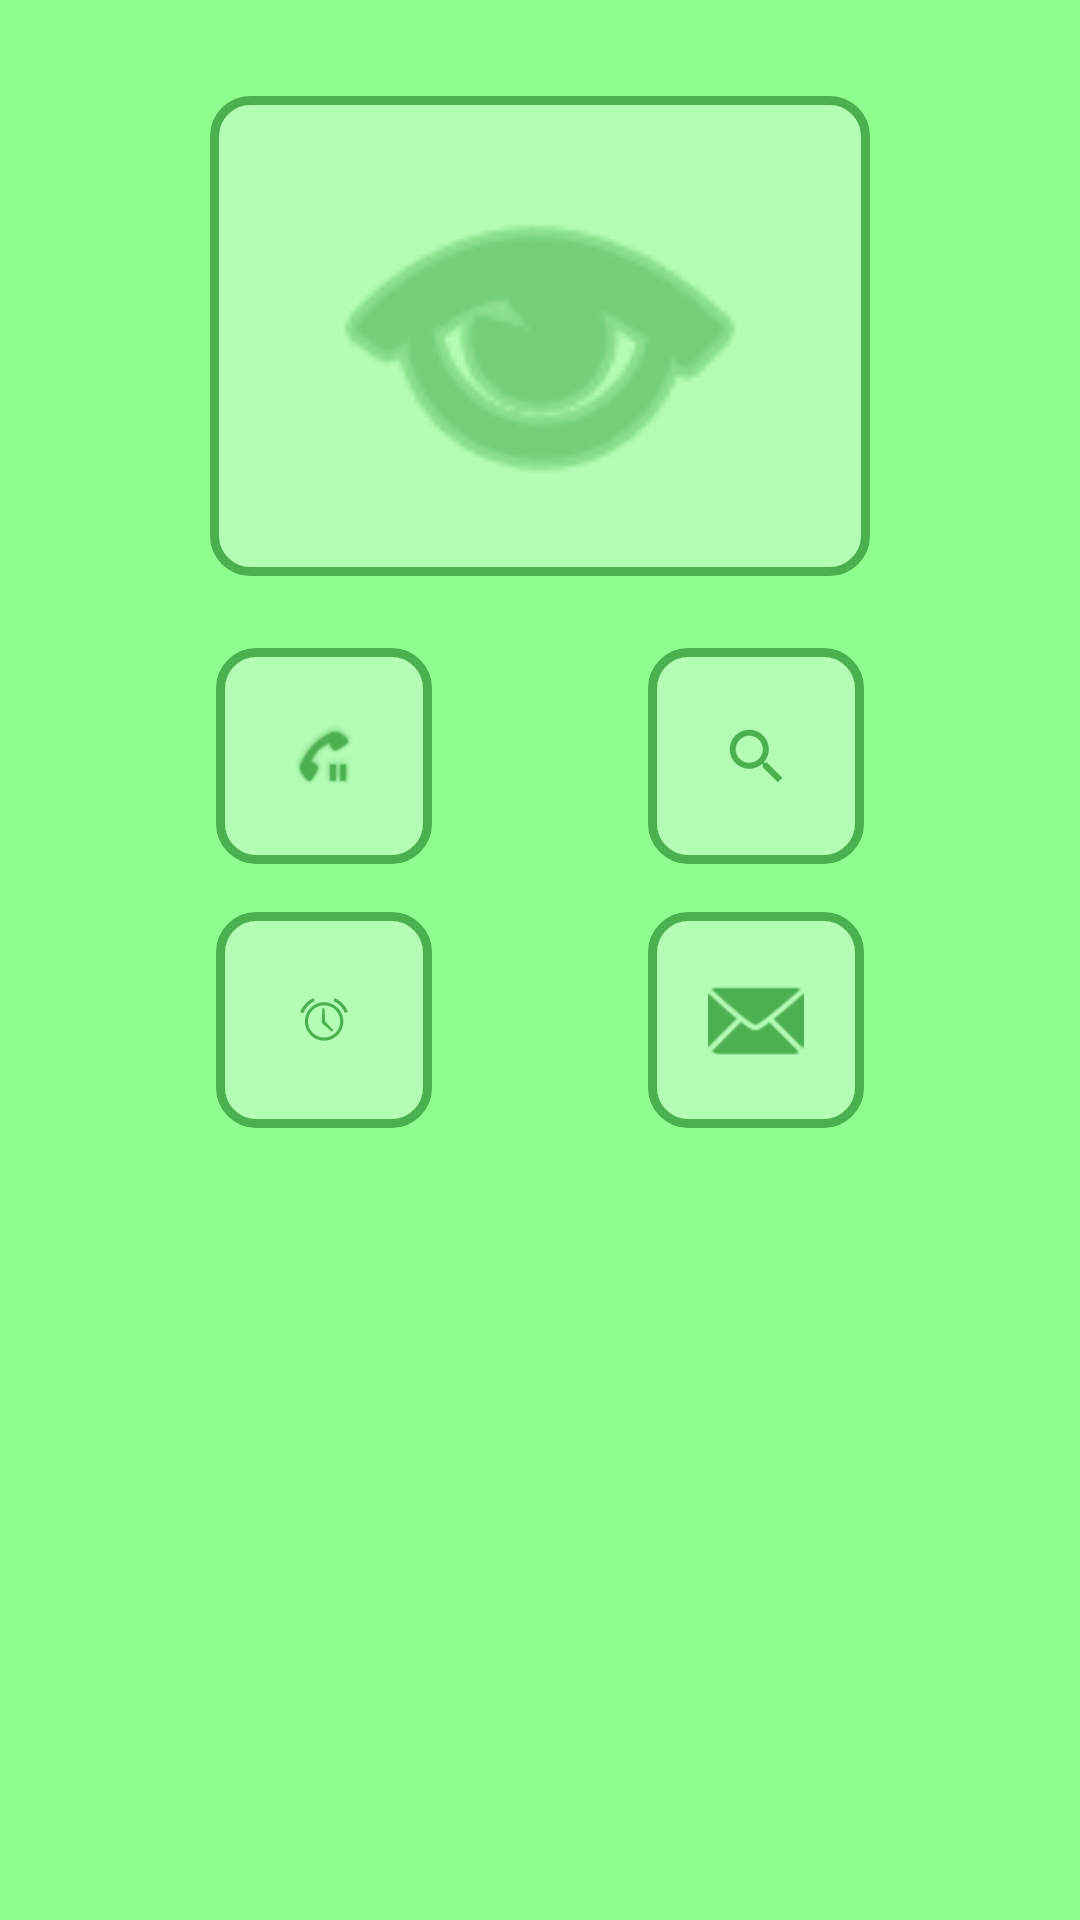

Where to tap for icons on this 1080 x 1920 app screen, as (x,y):
email: (756,1020)
lock idle alarm: (324,1020)
phone call on hold: (324,756)
